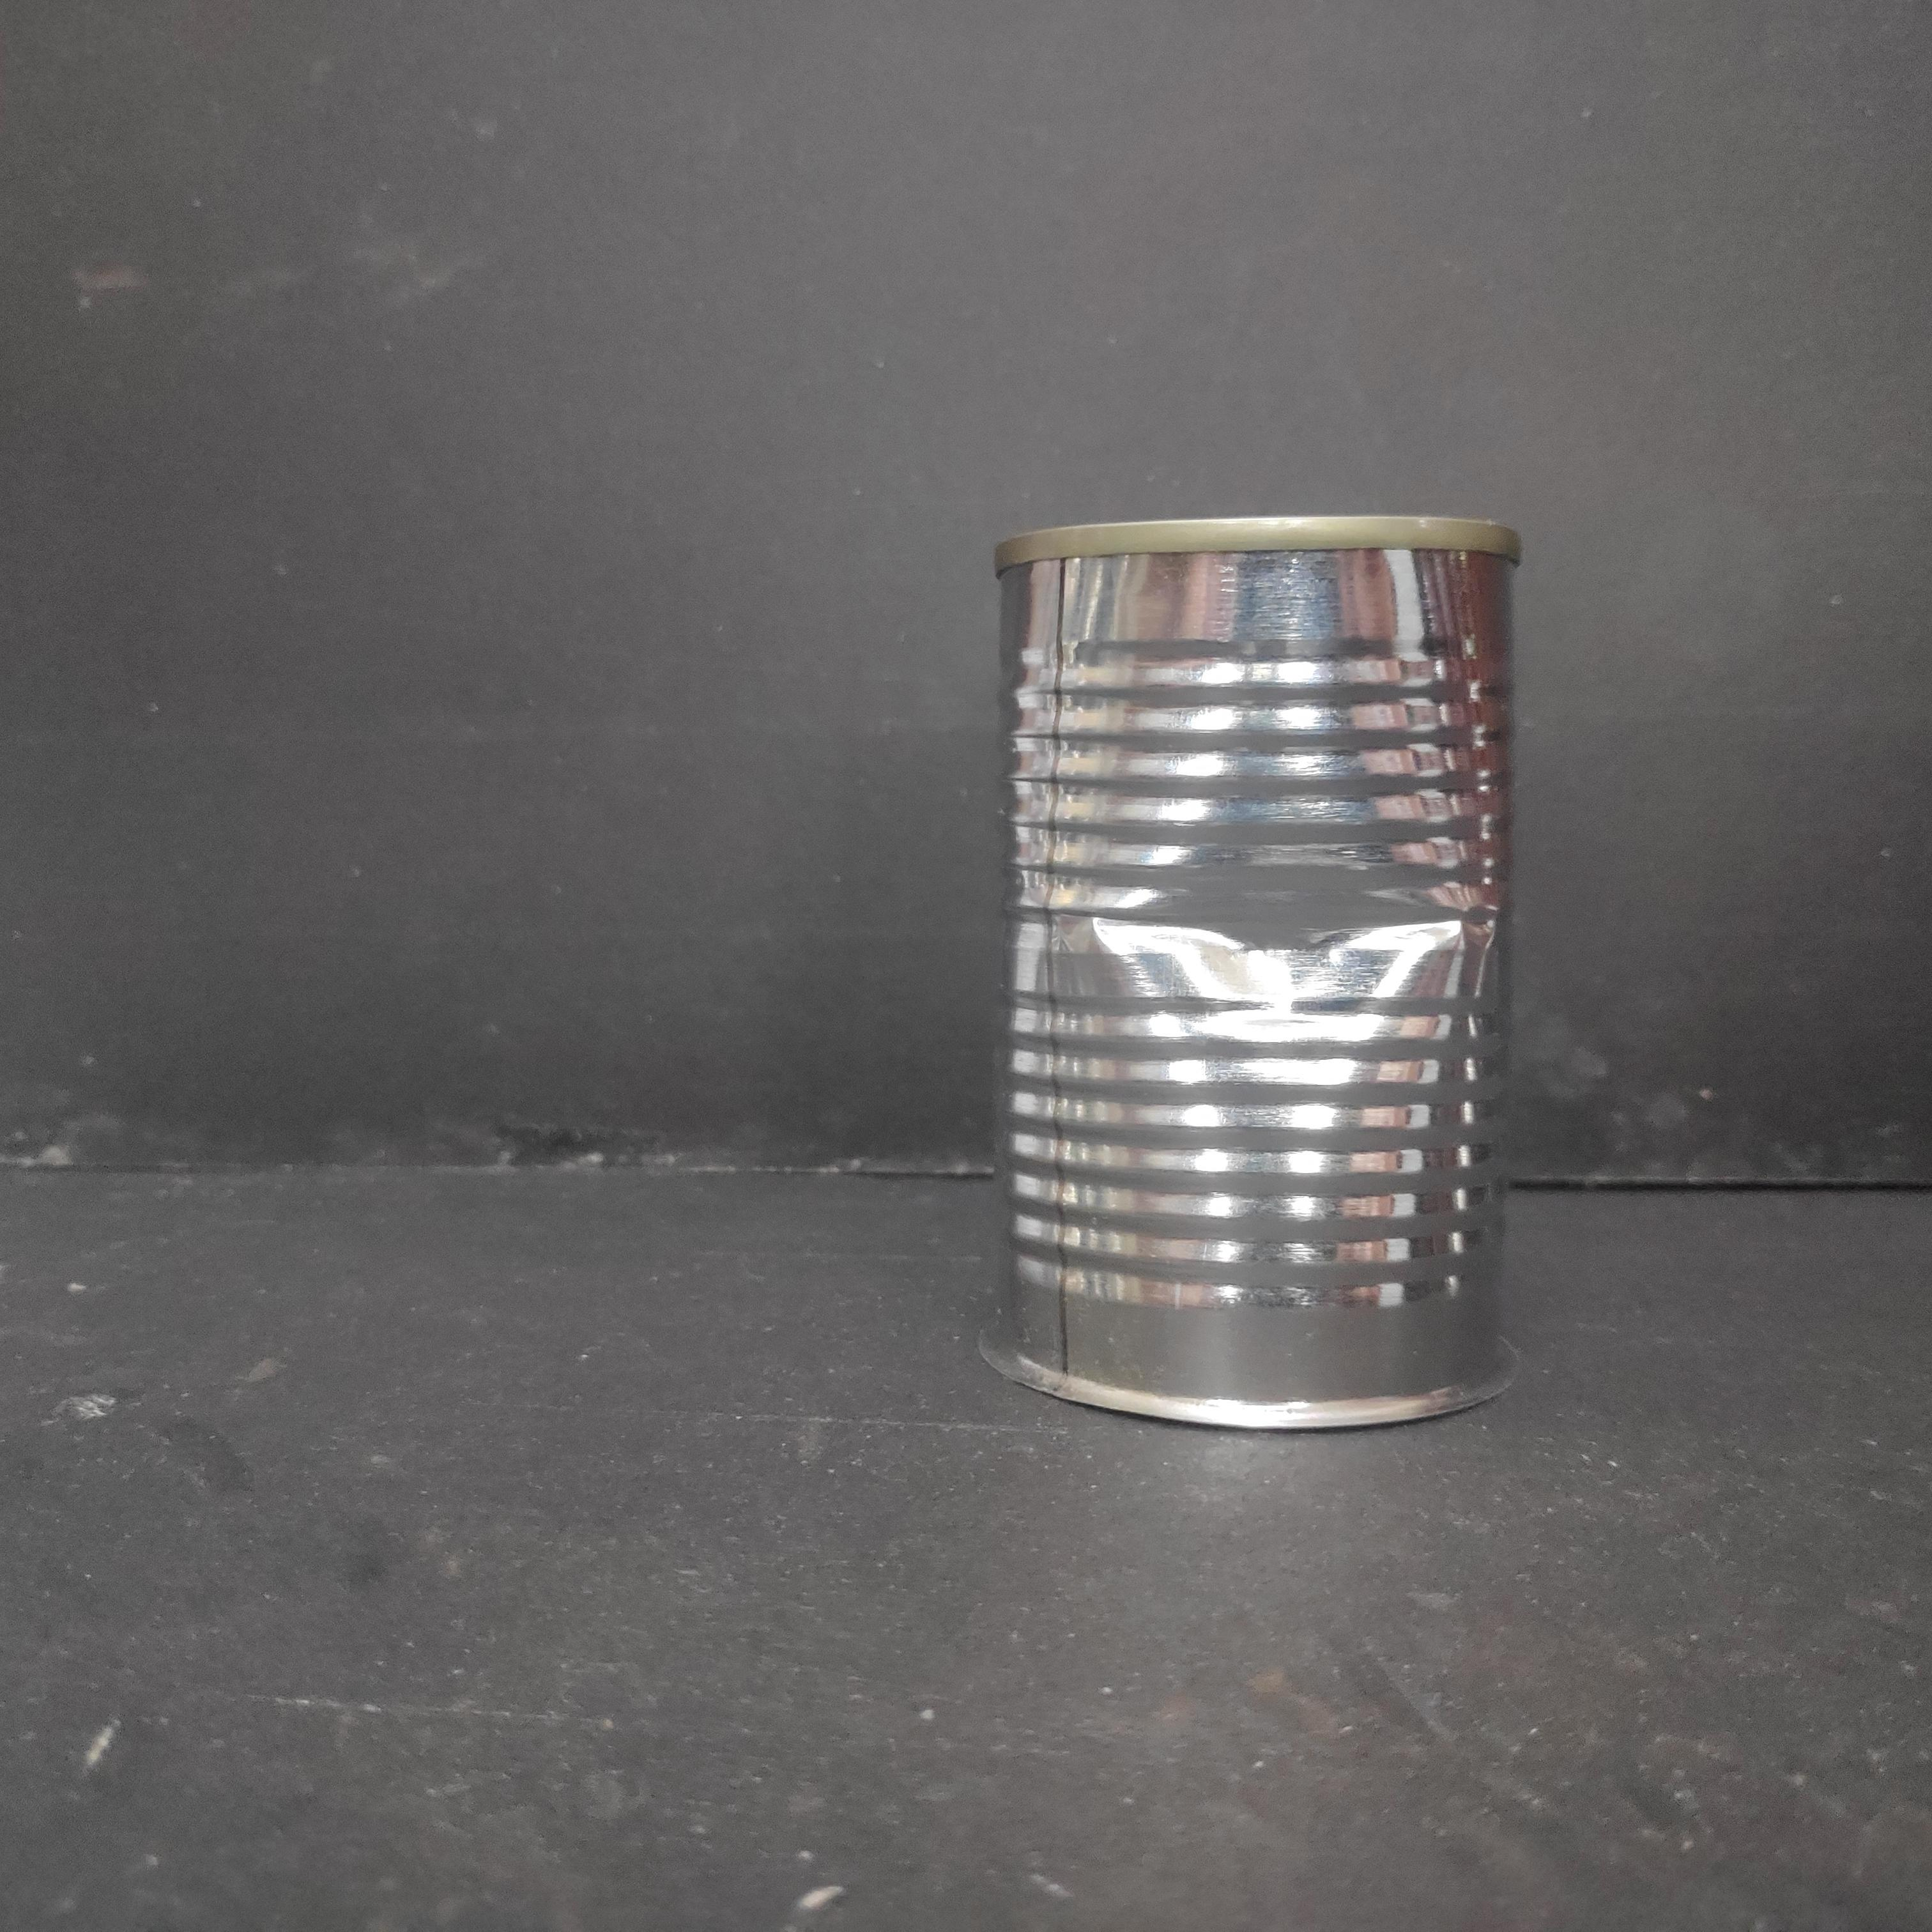Minor Defect: (976, 496, 1534, 1457)
